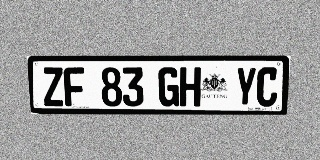3: (122, 67, 143, 106)
8: (101, 67, 122, 106)
C: (256, 67, 279, 107)
F: (63, 67, 86, 106)
G: (158, 67, 179, 106)
H: (180, 67, 201, 106)
Y: (234, 67, 257, 107)
Z: (42, 67, 64, 106)
